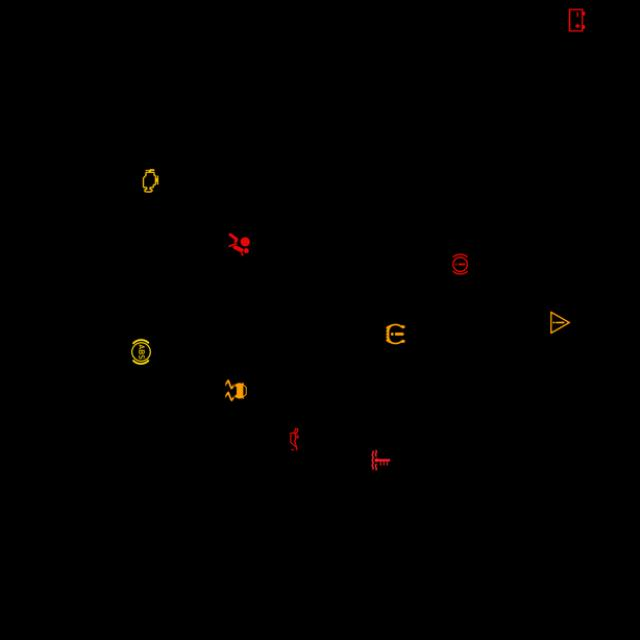Anti Lock Braking System: (126, 338, 154, 366)
Braking System Issue: (445, 250, 473, 278)
Charging System Issue: (562, 6, 590, 34)
Check Engine: (136, 167, 163, 195)
Electronic Stability Problem -ESP-: (221, 376, 249, 404)
Engine Overheating Warning Light: (366, 446, 394, 474)
Low Engine Oil Warning Light: (280, 426, 308, 454)
Low Tire Pressure Warning Light: (381, 320, 408, 348)
Master warning light: (545, 308, 573, 336)
SRS-Airbag: (224, 230, 252, 258)
